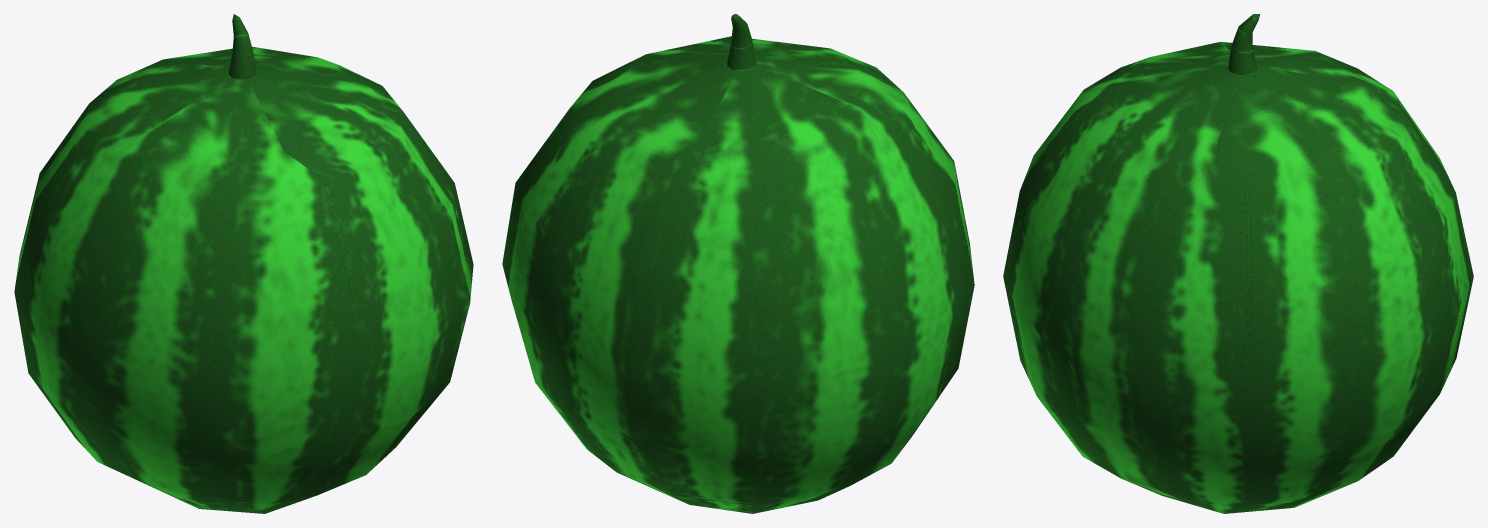
The model's file is watermelon.fbx.
3 views of the same model, side by side, from view 1: azimuth 30°, elevation 25°; view 2: azimuth 150°, elevation 25°; view 3: azimuth 270°, elevation 25° (orthographic). The views are drawn at different scales.
Visible parts, largest first — view 1: Sphere; view 2: Sphere; view 3: Sphere.
Boxes of the visible parts, x1,y1,x2,y2 form: Sphere: [14, 14, 473, 513]; Sphere: [502, 14, 974, 513]; Sphere: [1003, 14, 1473, 513].
Bounding box in the file's own units: 204 × 203 × 228.
